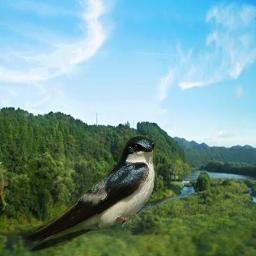Swallow: (22, 135, 157, 254)
